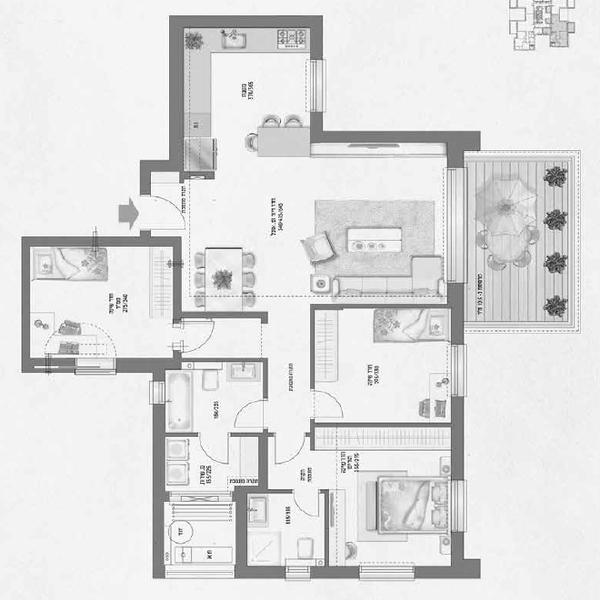door: (264, 429, 305, 469), (147, 198, 188, 236), (227, 398, 269, 434), (175, 320, 219, 354), (311, 388, 350, 424), (193, 432, 234, 466), (291, 488, 324, 521)
room: (306, 122, 468, 312), (305, 420, 475, 584), (167, 12, 327, 180), (165, 164, 321, 326), (17, 231, 185, 370), (307, 293, 466, 428), (151, 432, 242, 580), (229, 486, 337, 582), (150, 358, 267, 435)
wall: (307, 128, 482, 152), (168, 13, 325, 34), (165, 9, 184, 169), (150, 402, 167, 580), (25, 234, 181, 253), (17, 233, 37, 374), (305, 299, 451, 312), (231, 483, 249, 583), (311, 420, 454, 431), (176, 308, 267, 324), (445, 284, 467, 348), (414, 564, 484, 583), (117, 355, 185, 374), (169, 244, 185, 323), (450, 393, 464, 480), (17, 357, 76, 376), (307, 304, 320, 388), (183, 354, 268, 366), (256, 434, 272, 491), (311, 564, 361, 582), (451, 531, 468, 580), (323, 492, 334, 565), (240, 564, 286, 581), (136, 159, 187, 174), (258, 355, 273, 402), (158, 429, 200, 442), (137, 164, 151, 200), (229, 431, 276, 440)
window: (441, 173, 473, 285), (166, 561, 233, 583), (302, 60, 327, 113), (360, 562, 416, 582), (447, 346, 468, 394), (450, 476, 466, 530), (78, 358, 116, 376), (285, 562, 314, 583), (147, 383, 171, 403)
